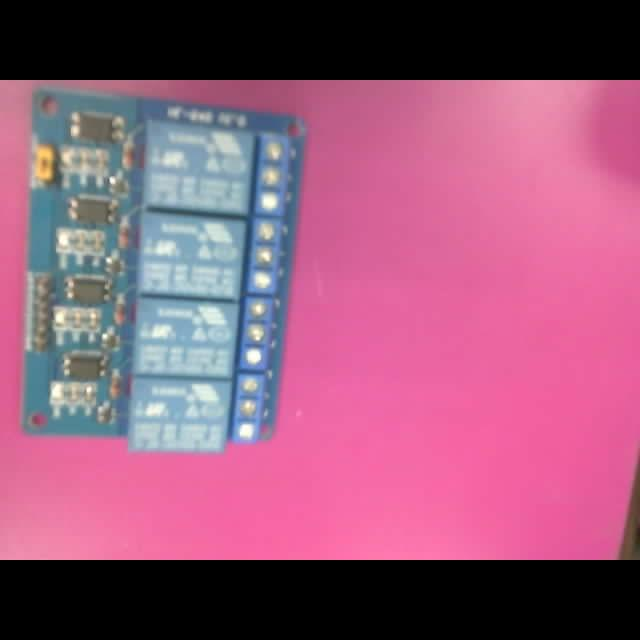relay_module: (19, 89, 304, 453)
